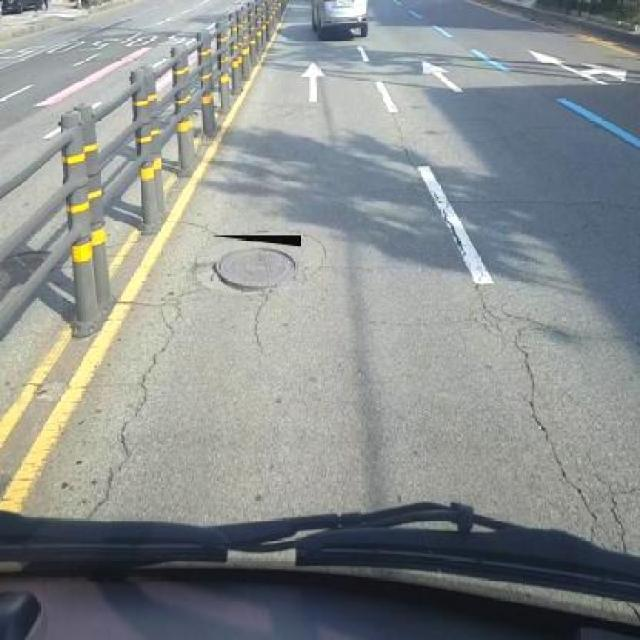Manhole: (212, 235, 300, 292)
